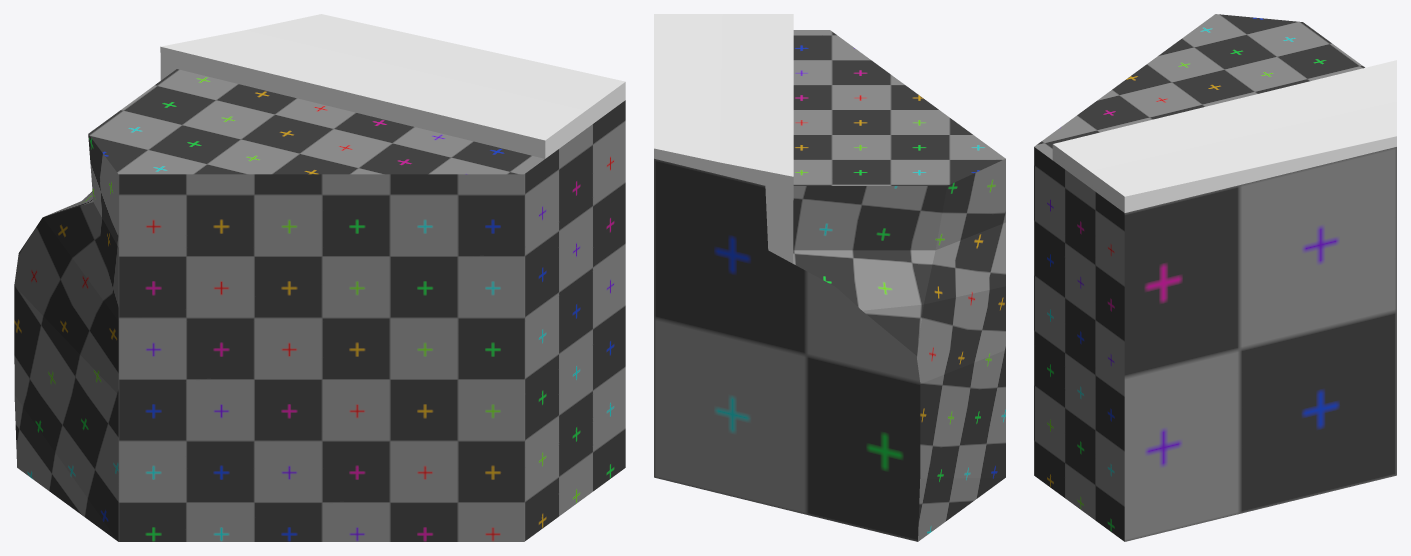
File: module-corner_land_cliff_big_stairs_003.glb
The picture shows the model from 3 angles, left to right: view 1: azimuth 30°, elevation 25°; view 2: azimuth 150°, elevation 25°; view 3: azimuth 270°, elevation 25°; orthographic projection. The views are drawn at different scales.
Visible parts, largest first — view 1: module-corner_land_cliff_big_stairs_003; view 2: module-corner_land_cliff_big_stairs_003; view 3: module-corner_land_cliff_big_stairs_003.
Part boxes in pixels (<box>): module-corner_land_cliff_big_stairs_003: <box>14,14,625,541</box>; module-corner_land_cliff_big_stairs_003: <box>654,14,1005,541</box>; module-corner_land_cliff_big_stairs_003: <box>1034,14,1396,541</box>.
Bounding box in the file's own units: 0.6536 × 0.525 × 0.5.
2 materials, 1 textured.
